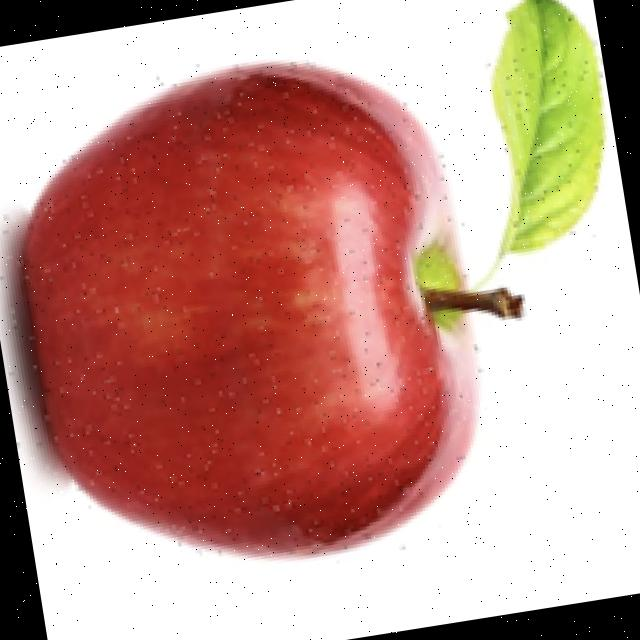apple: (0, 55, 530, 564)
